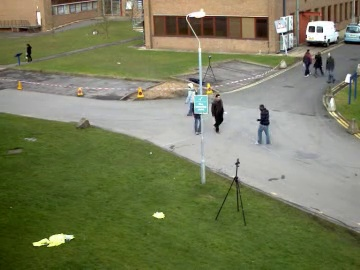person: (190, 97, 205, 138), (188, 96, 203, 135), (209, 93, 223, 133)
